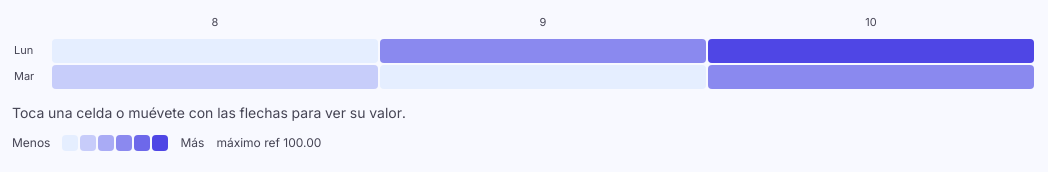
Scenario: HeatmapChart · valor de la celda con dedo y teclado › describeCell también es el texto de la zona visible
Click the 6th button named "f1 c2 = 60".
click(871, 76)  # box [708, 64, 1034, 88]
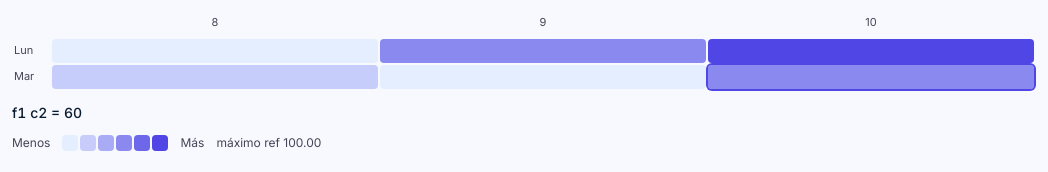
Expected: the text with test id "heatmap-cell-detail" reads "f1 c2 = 60", [12, 104, 82, 120]
